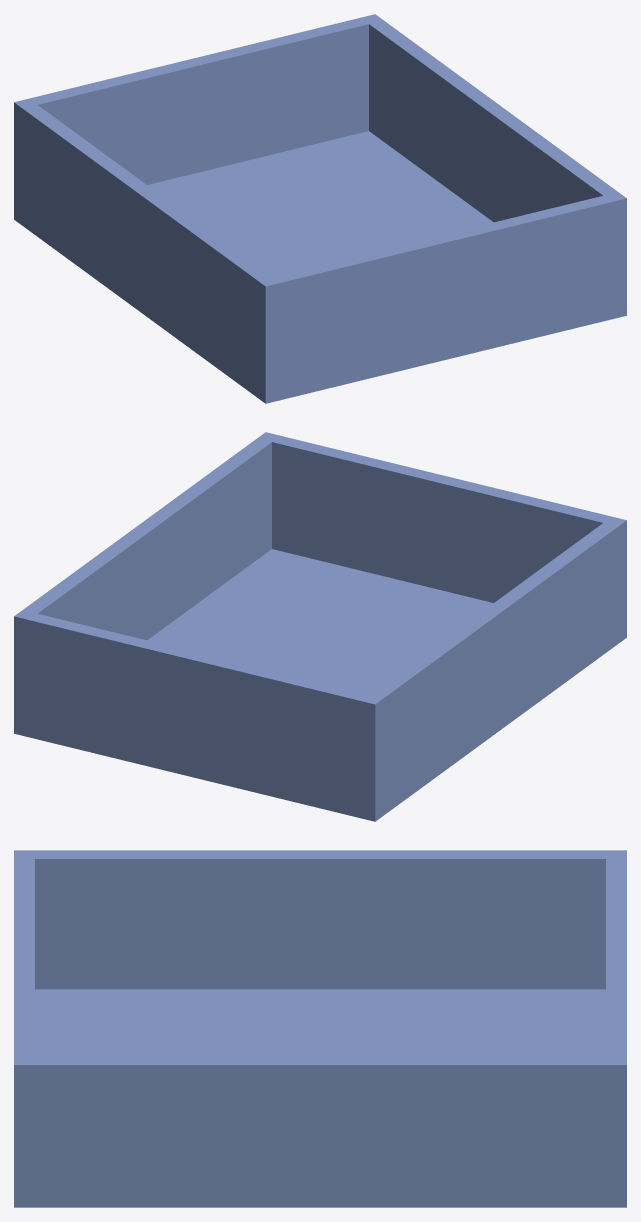
The model's file is left_basket.dae.
The picture shows the model from 3 angles, top to bottom: view 1: azimuth 30°, elevation 25°; view 2: azimuth 150°, elevation 25°; view 3: azimuth 270°, elevation 25°; orthographic projection. The views are drawn at different scales.
Visible parts, largest first — view 1: left_basket; view 2: left_basket; view 3: left_basket.
Part boxes in pixels (<box>): left_basket: <box>14,14,626,403</box>; left_basket: <box>14,432,626,821</box>; left_basket: <box>14,850,626,1207</box>.
Bounding box in the file's own units: 0.29 × 0.35 × 0.09.
